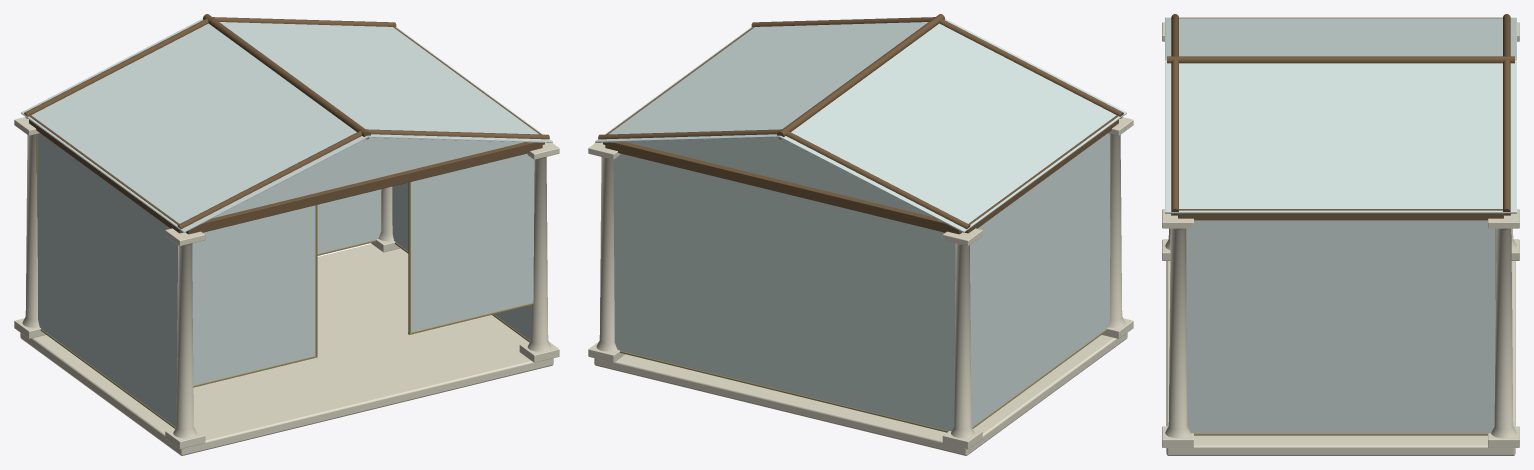
Rendered from water-clock-garden-and-hydraulic-puzzles-roofed-hydrau-939369d9__31920.glb.
3 views of the same model, side by side, from view 1: azimuth 30°, elevation 25°; view 2: azimuth 150°, elevation 25°; view 3: azimuth 270°, elevation 25° (orthographic). The views are drawn at different scales.
Parts seen in each view (by area): view 1: roofed-hydraulic-clock-pavilion; view 2: roofed-hydraulic-clock-pavilion; view 3: roofed-hydraulic-clock-pavilion.
Part boxes in pixels (box(x1,y1,x2,y2)): roofed-hydraulic-clock-pavilion: box(14, 14, 559, 455); roofed-hydraulic-clock-pavilion: box(588, 14, 1133, 455); roofed-hydraulic-clock-pavilion: box(1162, 14, 1519, 455).
Bounding box in the file's own units: 8.15 × 5.73 × 6.15.
